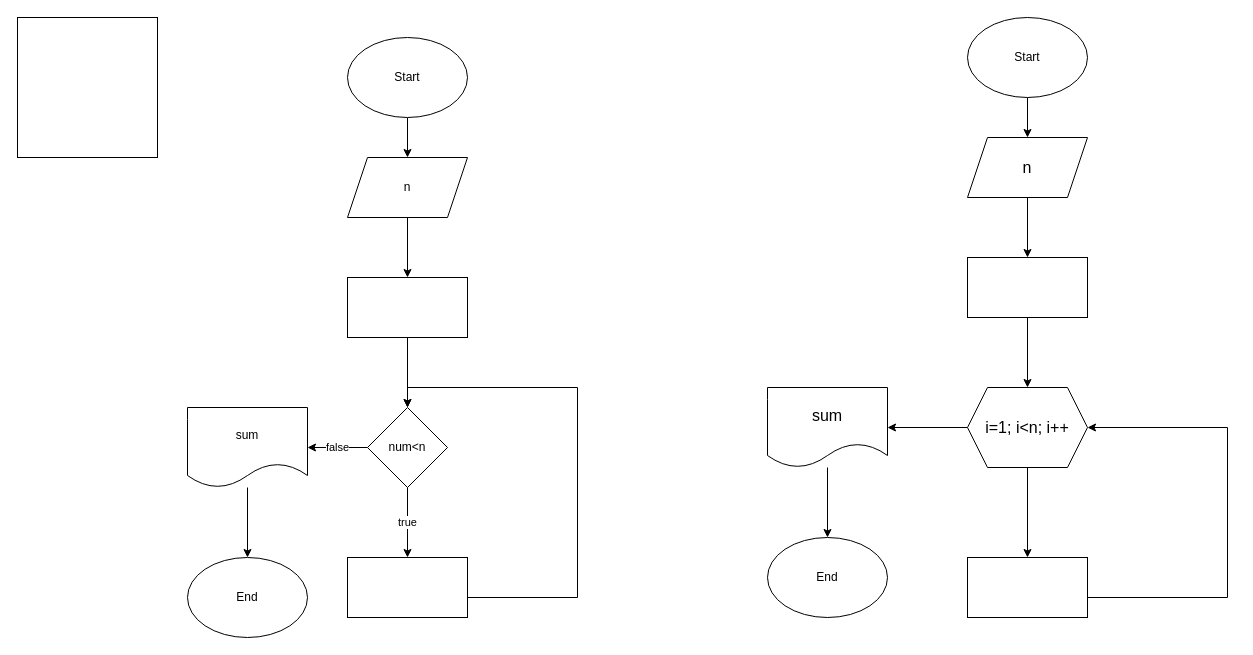
Some shapes in this 1253 by 655 pixel diagram are drawn without their labels. Here are the shapes that lost their labels. From the top down, the box of each, then its label:
(16, 16, 158, 158): 1-den n-dek ededlerin cemin tapan alqoritm
(346, 276, 468, 338): sum=0 num=1
(966, 256, 1088, 318): sum=0
(346, 556, 468, 618): sum+=num num++
(966, 556, 1088, 618): sum+=i
